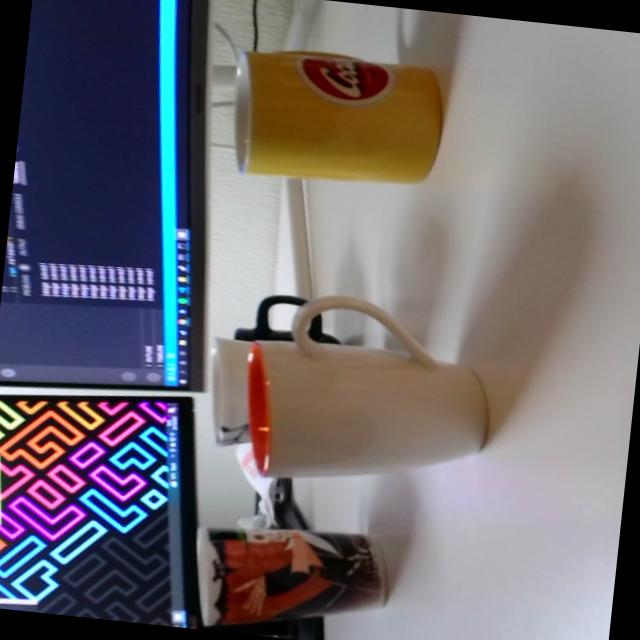Cocio Cup: (220, 42, 452, 195)
Halloween cup: (194, 514, 392, 640)
White Cup: (229, 281, 504, 499)
